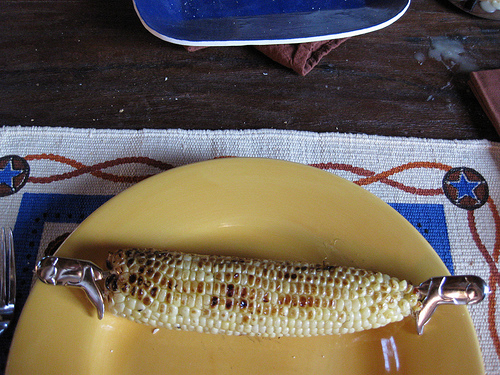corn: (100, 248, 418, 339)
